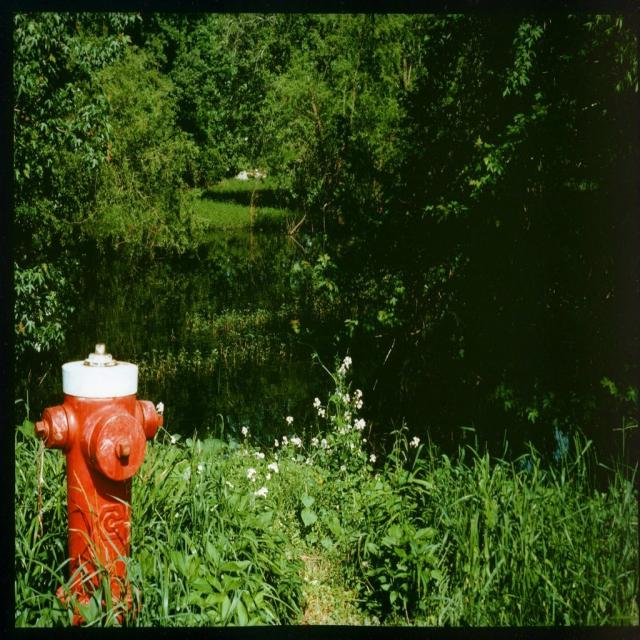fire_hydrant: (38, 342, 163, 623)
